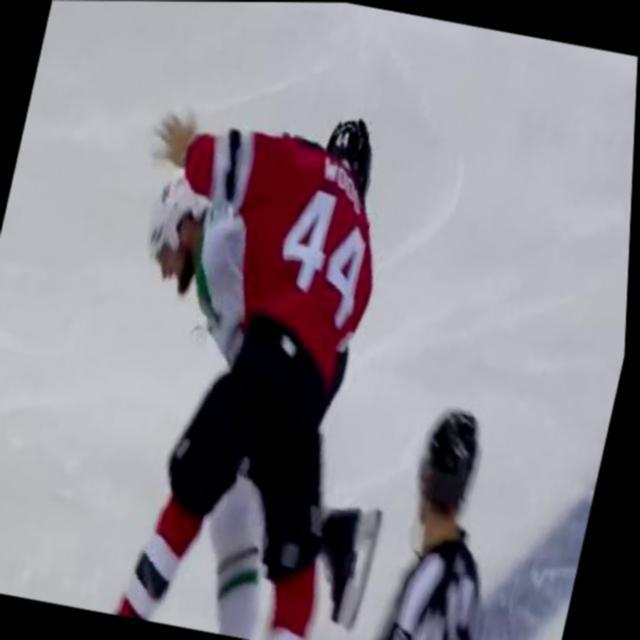fight: (56, 82, 469, 640)
